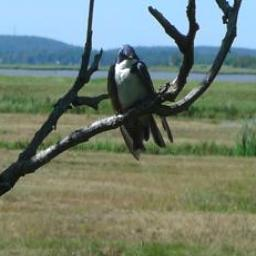Swallow: (104, 41, 176, 163)
